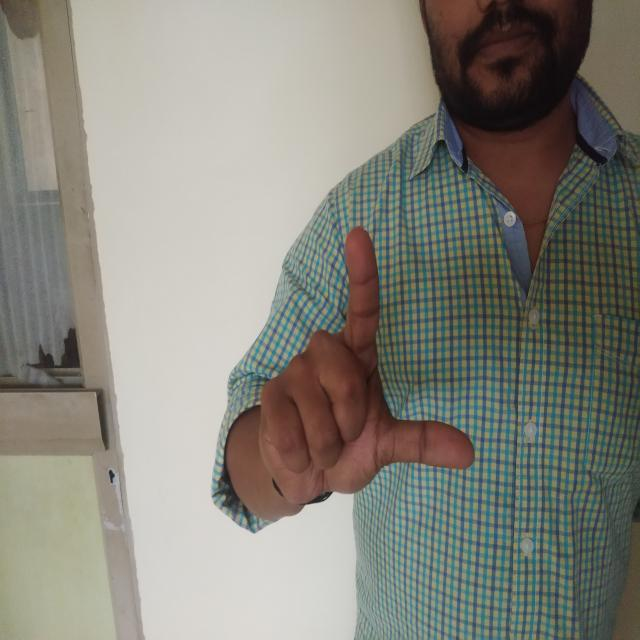L: (238, 208, 482, 515)
